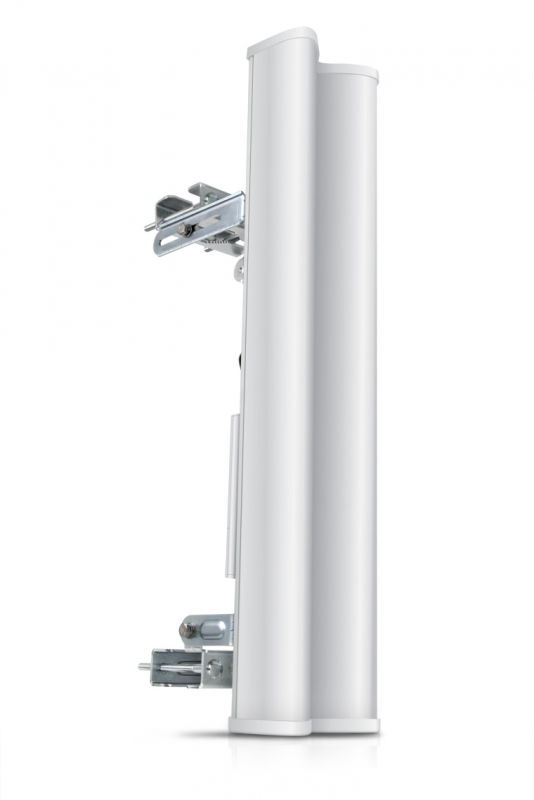sa: (185, 19, 413, 763)
